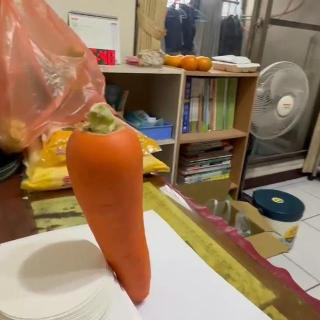carrot: (69, 106, 160, 306)
